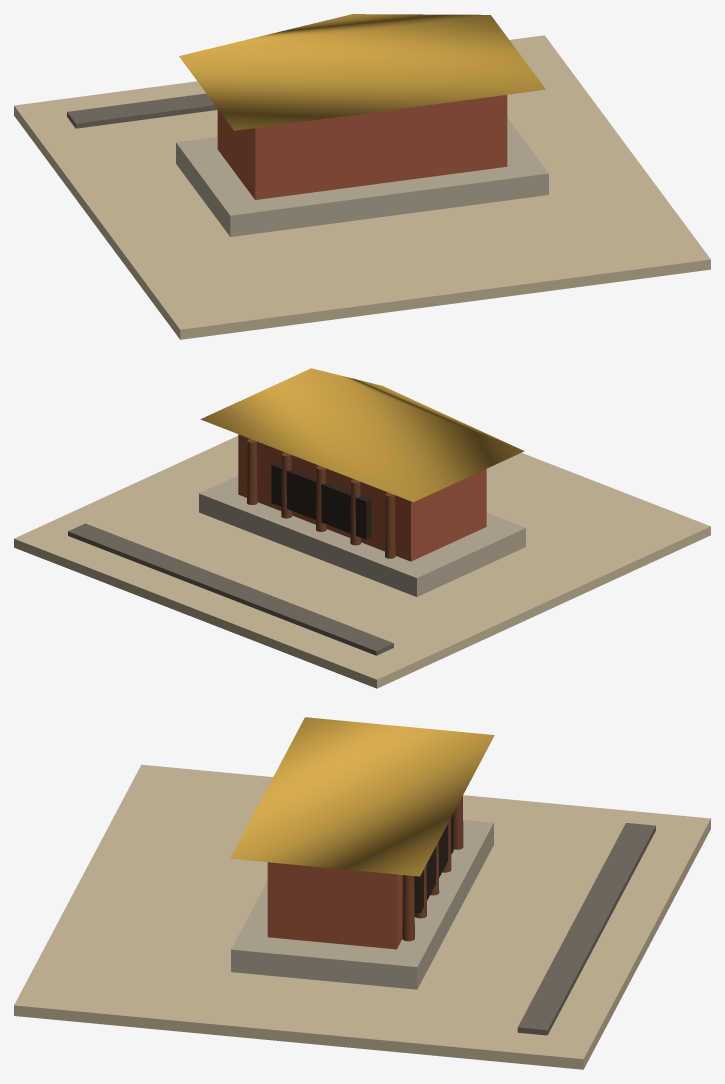
Rendered from model-medium.glb.
The picture shows the model from 3 angles, top to bottom: view 1: azimuth 30°, elevation 25°; view 2: azimuth 150°, elevation 25°; view 3: azimuth 270°, elevation 25°; orthographic projection. The views are drawn at different scales.
Parts seen in each view (by area): view 1: context_site_plinth, sweeping_tiled_roof, main_hall_wall_volume, raised_ceremonial_platform, front_scale_strip; view 2: context_site_plinth, sweeping_tiled_roof, raised_ceremonial_platform, main_hall_wall_volume, front_scale_strip, central_shadow_door, front_column_1, front_column_5, front_column_3, front_column_4; view 3: context_site_plinth, sweeping_tiled_roof, raised_ceremonial_platform, main_hall_wall_volume, front_scale_strip, central_shadow_door, front_column_5.
Boxes of the visible parts, <box> form: context_site_plinth: <box>14,35,710,339</box>; sweeping_tiled_roof: <box>179,14,545,130</box>; main_hall_wall_volume: <box>217,95,507,199</box>; raised_ceremonial_platform: <box>176,118,548,236</box>; front_scale_strip: <box>67,93,217,128</box>; context_site_plinth: <box>14,436,710,688</box>; sweeping_tiled_roof: <box>200,368,524,502</box>; raised_ceremonial_platform: <box>199,475,525,596</box>; main_hall_wall_volume: <box>238,434,486,561</box>; front_scale_strip: <box>68,523,393,655</box>; central_shadow_door: <box>271,462,371,539</box>; front_column_1: <box>385,492,395,558</box>; front_column_5: <box>247,439,257,504</box>; front_column_3: <box>316,465,326,531</box>; front_column_4: <box>281,452,291,518</box>; context_site_plinth: <box>14,764,710,1069</box>; sweeping_tiled_roof: <box>230,717,494,876</box>; raised_ceremonial_platform: <box>231,820,493,989</box>; main_hall_wall_volume: <box>267,862,402,949</box>; front_scale_strip: <box>517,823,655,1035</box>; central_shadow_door: <box>414,813,453,913</box>; front_column_5: <box>402,875,414,941</box>.
Size of the model in its own units: 9.55 by 2.62 by 9.55.
